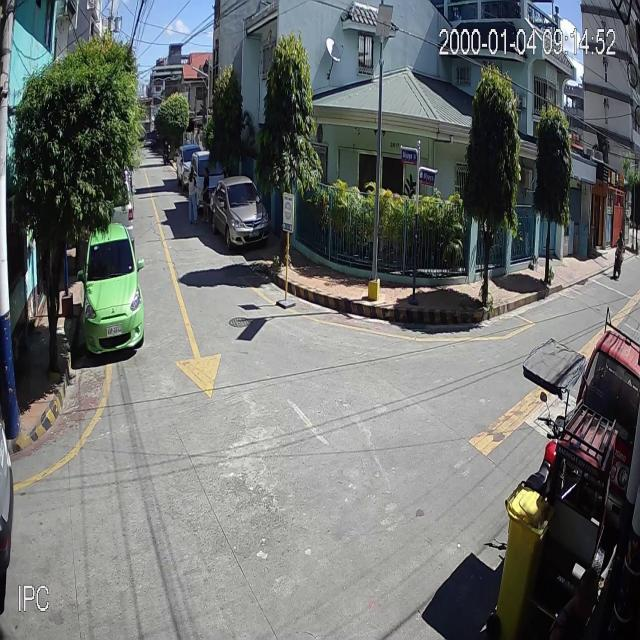walking: (188, 164, 199, 227), (200, 166, 211, 225)
